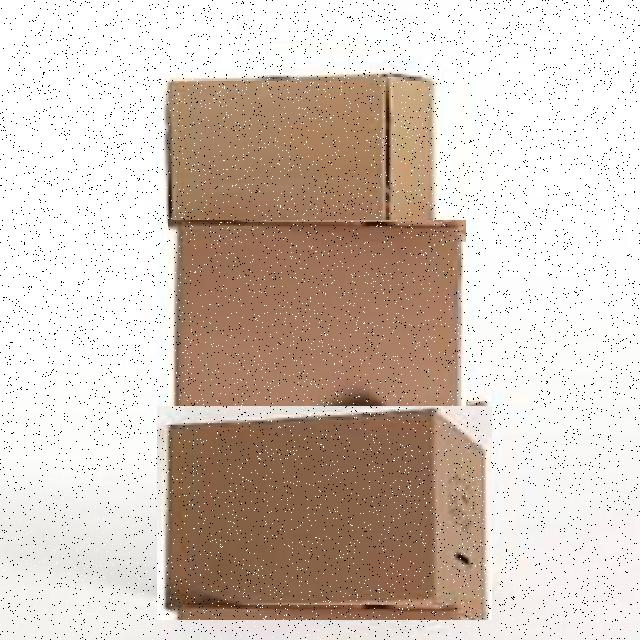normal: (157, 406, 492, 620), (168, 220, 466, 423), (162, 70, 442, 232)
